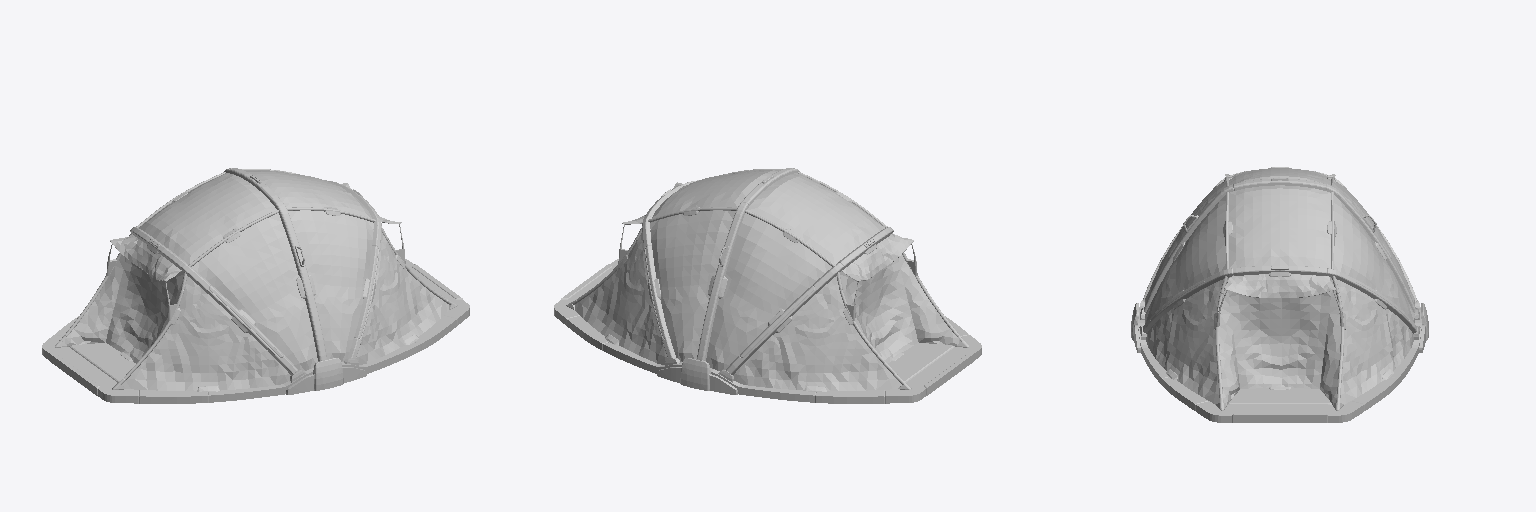
Rendered from Tent.obj.
The picture shows the model from 3 angles: view 1: azimuth 30°, elevation 25°; view 2: azimuth 150°, elevation 25°; view 3: azimuth 270°, elevation 25°; orthographic projection.
Parts seen in each view (by area): view 1: tent.002; view 2: tent.002; view 3: tent.002.
Part boxes in pixels (bbox=[...]): tent.002: bbox=[42, 168, 469, 403]; tent.002: bbox=[554, 168, 981, 403]; tent.002: bbox=[1131, 167, 1428, 422].
Bounding box in the file's own units: 0.521 × 0.2113 × 0.3674.